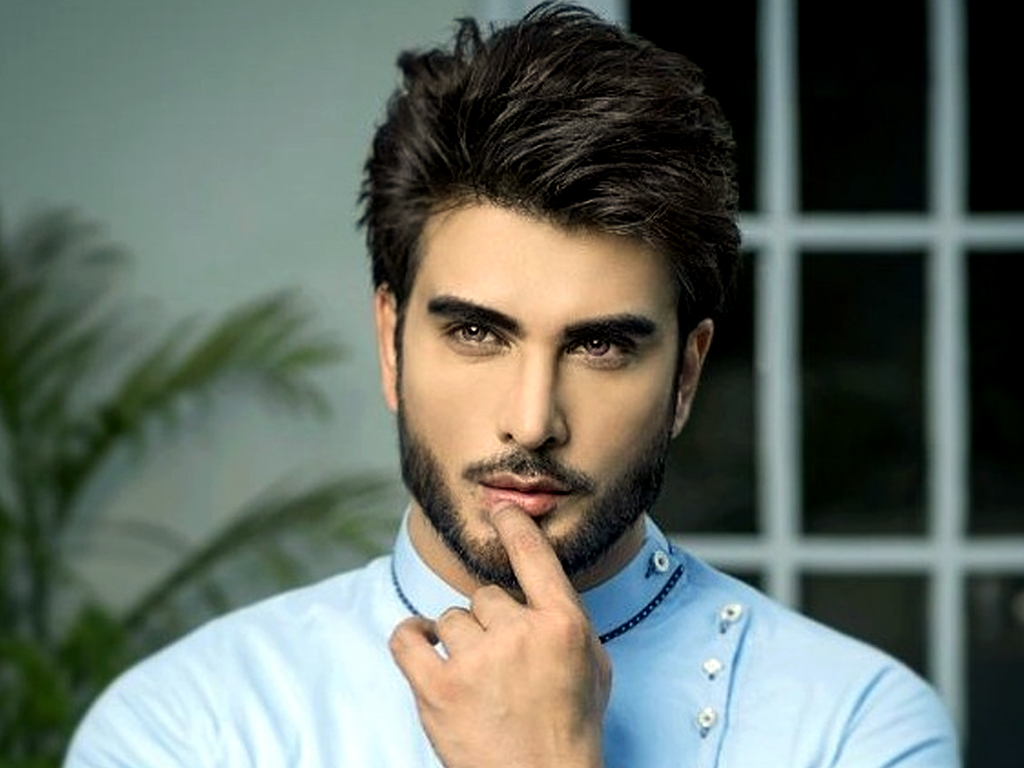NoMask: (416, 284, 668, 572)
